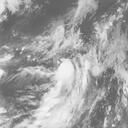cyclone: (46, 55, 80, 89)
